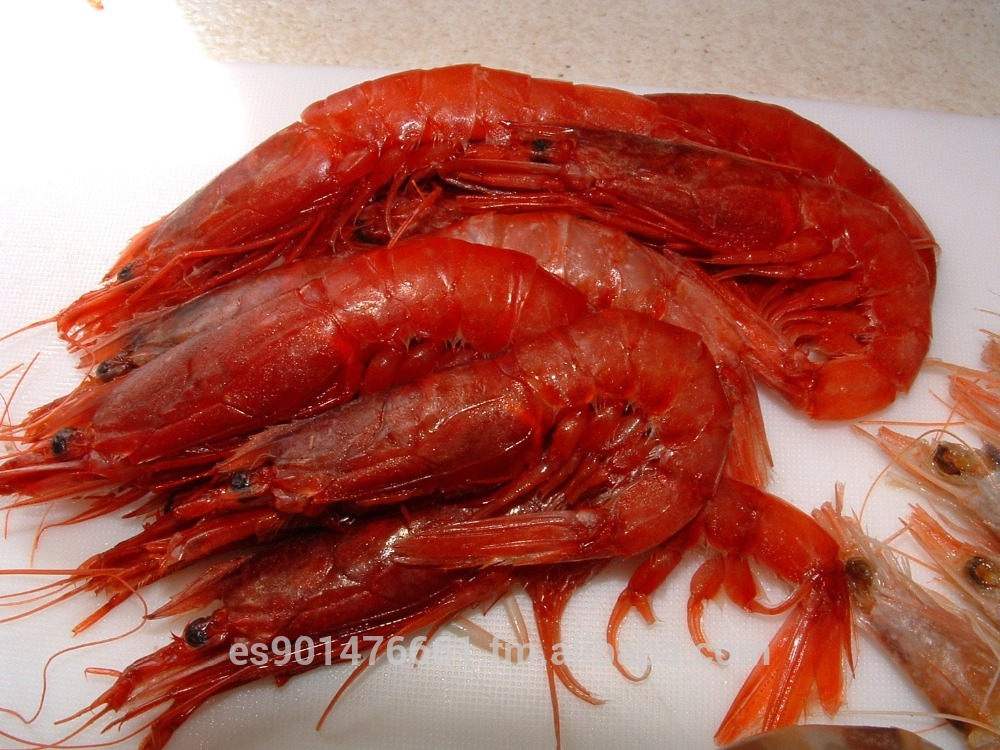Red Prawn: (77, 62, 938, 281), (227, 326, 744, 573)
